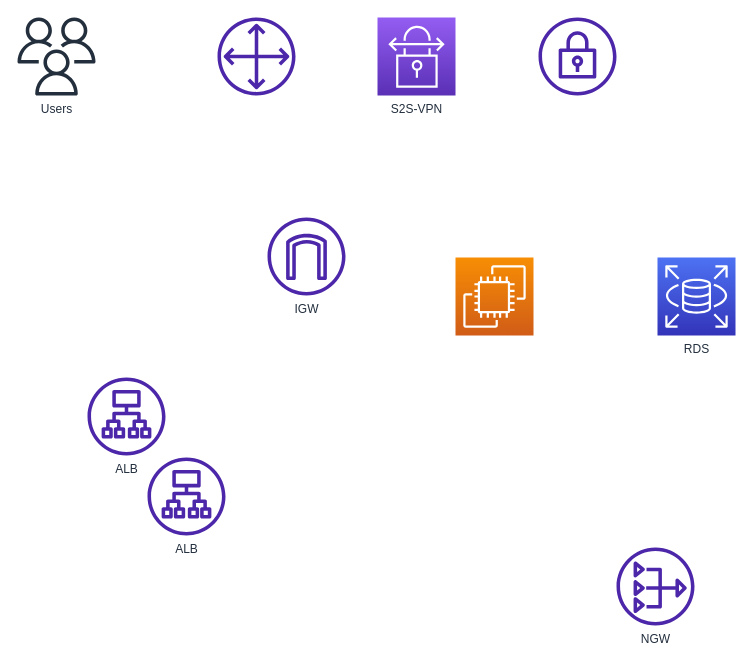
Image size: 753x664. Some labels were removed from this diagram. The shapes that lost their labels are listed below. From the top down, each one's centre as x and y in pixels, then its label:
(256,56): Router
(577,56): VGW
(494,296): EC2
